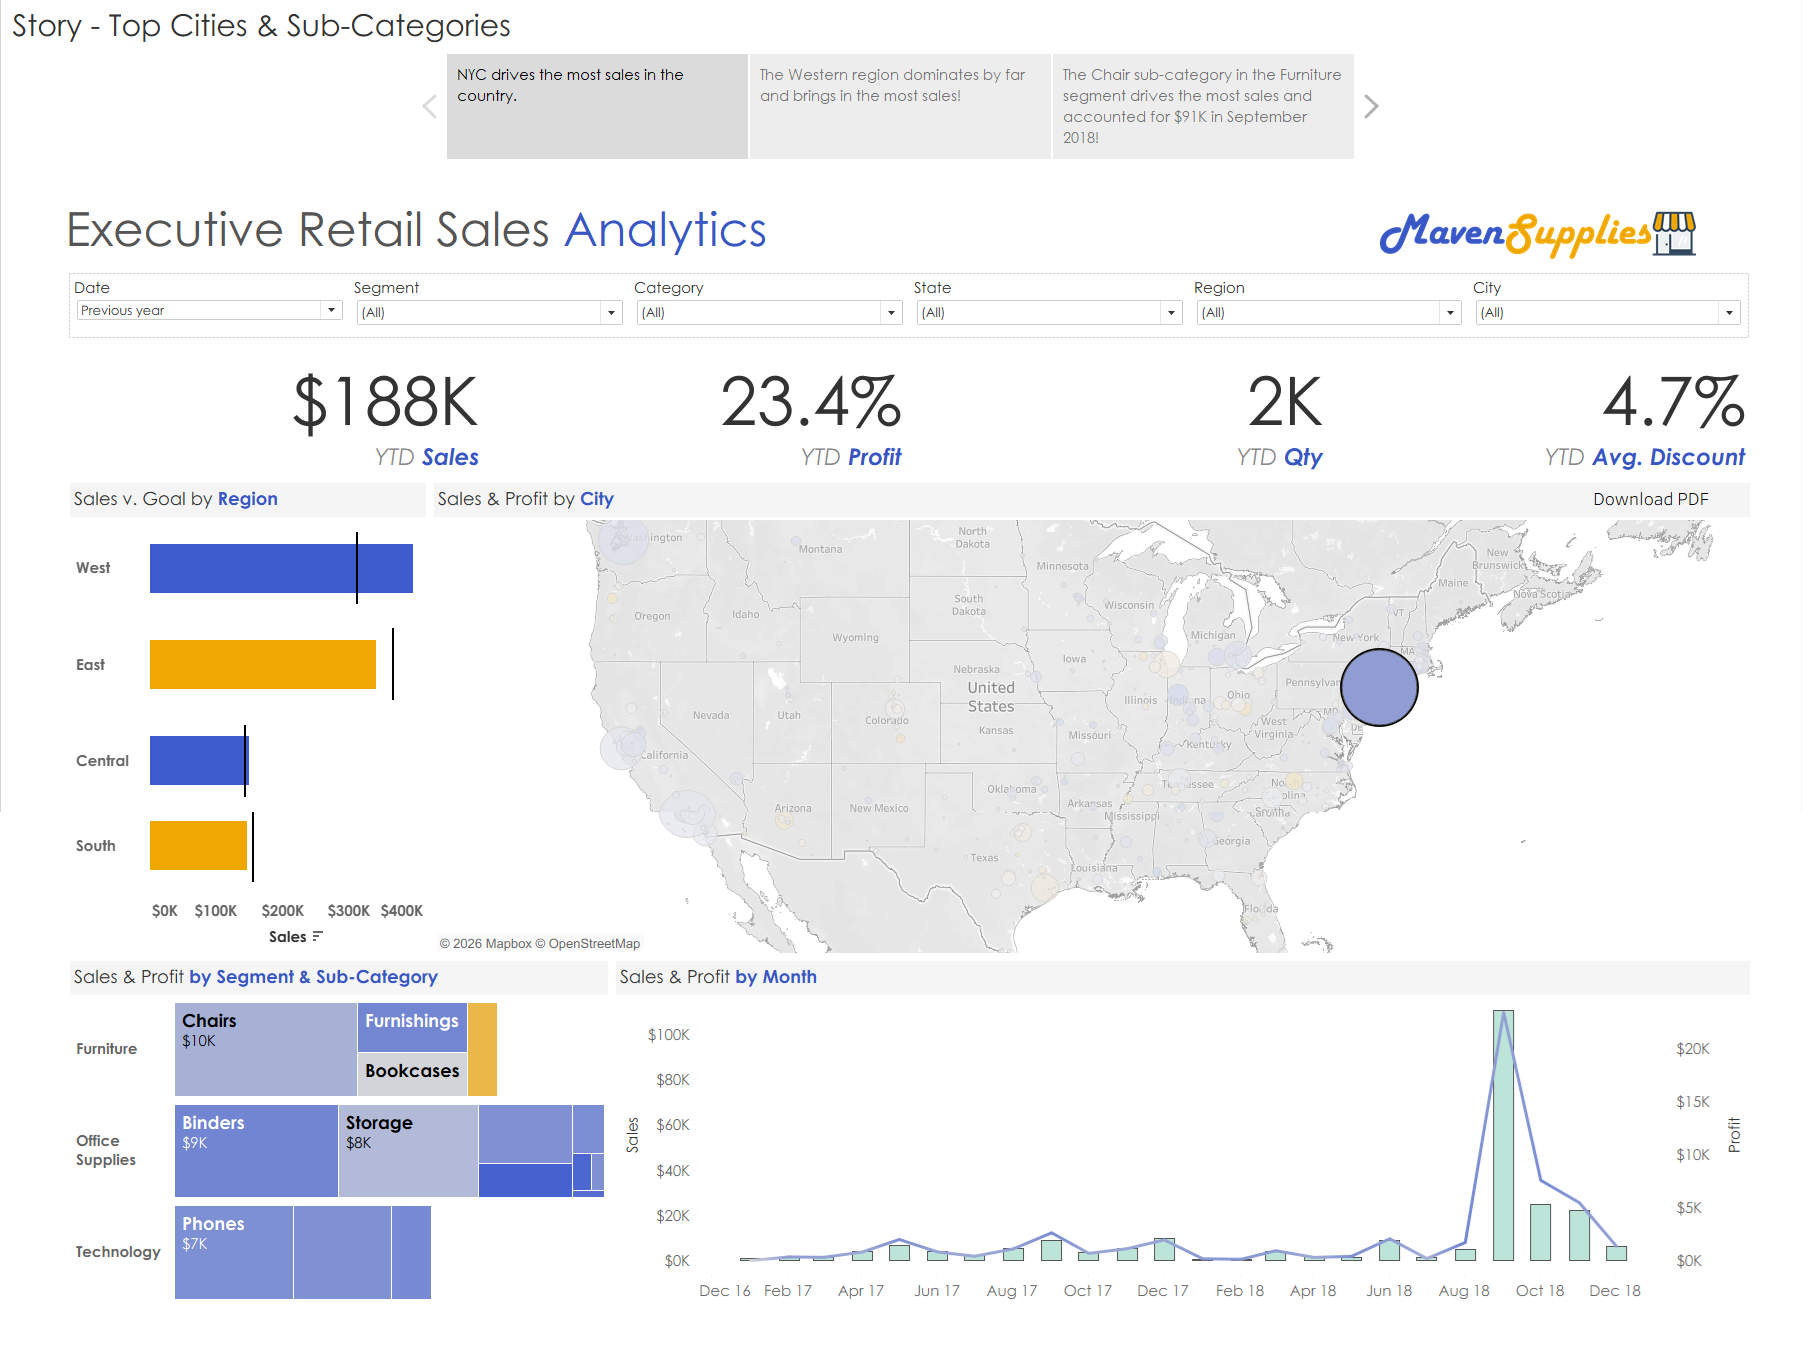

Layout of this report page (visuals, bound fields, positions):
{"tool":"tableau","page":{"name":"Executive Dashboard","canvas":[1800,1200],"ordinal":1},"visuals":[{"type":"blank","box":[0,0,1800,90]},{"type":"text","box":[52.5,20,1126.5,58]},{"type":"image","param":"Image/Maven Supplies Logo.png","box":[1365,25,384,57]},{"type":"filter","title":"Treemap - Sales by Sub-Category","param":"[federated.0nayi0l1egsd8t18wtyq110iw3qj].[none:Order Date (MDY):qk]","box":[61,95,280,63]},{"type":"filter","title":"Treemap - Sales by Sub-Category","param":"[federated.0nayi0l1egsd8t18wtyq110iw3qj].[none:Segment:nk]","box":[341,95,280,63]},{"type":"filter","title":"Treemap - Sales by Sub-Category","param":"[federated.0nayi0l1egsd8t18wtyq110iw3qj].[none:Category:nk]","box":[621,95,280,63]},{"type":"filter","title":"Treemap - Sales by Sub-Category","param":"[federated.0nayi0l1egsd8t18wtyq110iw3qj].[none:State:nk]","box":[901,95,280,63]},{"type":"filter","title":"Treemap - Sales by Sub-Category","param":"[federated.0nayi0l1egsd8t18wtyq110iw3qj].[none:Region:nk]","box":[1181,95,279,63]},{"type":"filter","title":"Bars - Sales v. Goal","param":"[federated.0nayi0l1egsd8t18wtyq110iw3qj].[none:City:nk]","box":[1460,95,279,63]},{"type":"worksheet","title":"BAN - YTD Sales","mark":"Automatic","box":[57,175,422,125]},{"type":"worksheet","title":"BAN - YTD Profit","mark":"Automatic","box":[479,175,422,125]},{"type":"worksheet","title":"BAN - YTD Qty","mark":"Automatic","box":[901,175,422,125]},{"type":"worksheet","title":"BAN - YTD Avg. Discount","mark":"Automatic","box":[1323,175,422,125]},{"type":"worksheet","title":"Bars - Sales v. Goal","mark":"Automatic","rows":["Region"],"cols":["Sales","Goal"],"box":[57,300,364,489]},{"type":"worksheet","title":"Map - Sales & Profit","mark":"Automatic","box":[421,300,1323.5,489]},{"type":"dashboard-object","box":[1542,309,201,21]},{"type":"worksheet","title":"Treemap - Sales by Sub-Category","mark":"Automatic","rows":["Category"],"box":[57,789,546,351]},{"type":"worksheet","title":"Bar Line - Monthly Sales Trend","mark":"Bar","rows":["Sales","Profit"],"cols":["Order Date (MDY)"],"box":[603,789,1141.5,351]}]}

Visuals, with their boxes on the page's 1800x1200 design canvas (x1, y1, x2, y2). These are canvas units, not pixel positions in the 1802x1370 screenshot, which may show the page scaled, cropped or inside an application window:
blank: (x1=0, y1=0, x2=1800, y2=90)
text: (x1=52, y1=20, x2=1179, y2=78)
image: (x1=1365, y1=25, x2=1749, y2=82)
"Treemap - Sales by Sub-Category" filter: (x1=61, y1=95, x2=341, y2=158)
"Treemap - Sales by Sub-Category" filter: (x1=341, y1=95, x2=621, y2=158)
"Treemap - Sales by Sub-Category" filter: (x1=621, y1=95, x2=901, y2=158)
"Treemap - Sales by Sub-Category" filter: (x1=901, y1=95, x2=1181, y2=158)
"Treemap - Sales by Sub-Category" filter: (x1=1181, y1=95, x2=1460, y2=158)
"Bars - Sales v. Goal" filter: (x1=1460, y1=95, x2=1739, y2=158)
"BAN - YTD Sales" worksheet: (x1=57, y1=175, x2=479, y2=300)
"BAN - YTD Profit" worksheet: (x1=479, y1=175, x2=901, y2=300)
"BAN - YTD Qty" worksheet: (x1=901, y1=175, x2=1323, y2=300)
"BAN - YTD Avg. Discount" worksheet: (x1=1323, y1=175, x2=1745, y2=300)
"Bars - Sales v. Goal" worksheet: (x1=57, y1=300, x2=421, y2=789)
"Map - Sales & Profit" worksheet: (x1=421, y1=300, x2=1744, y2=789)
dashboard-object: (x1=1542, y1=309, x2=1743, y2=330)
"Treemap - Sales by Sub-Category" worksheet: (x1=57, y1=789, x2=603, y2=1140)
"Bar Line - Monthly Sales Trend" worksheet (Bar marks): (x1=603, y1=789, x2=1744, y2=1140)
